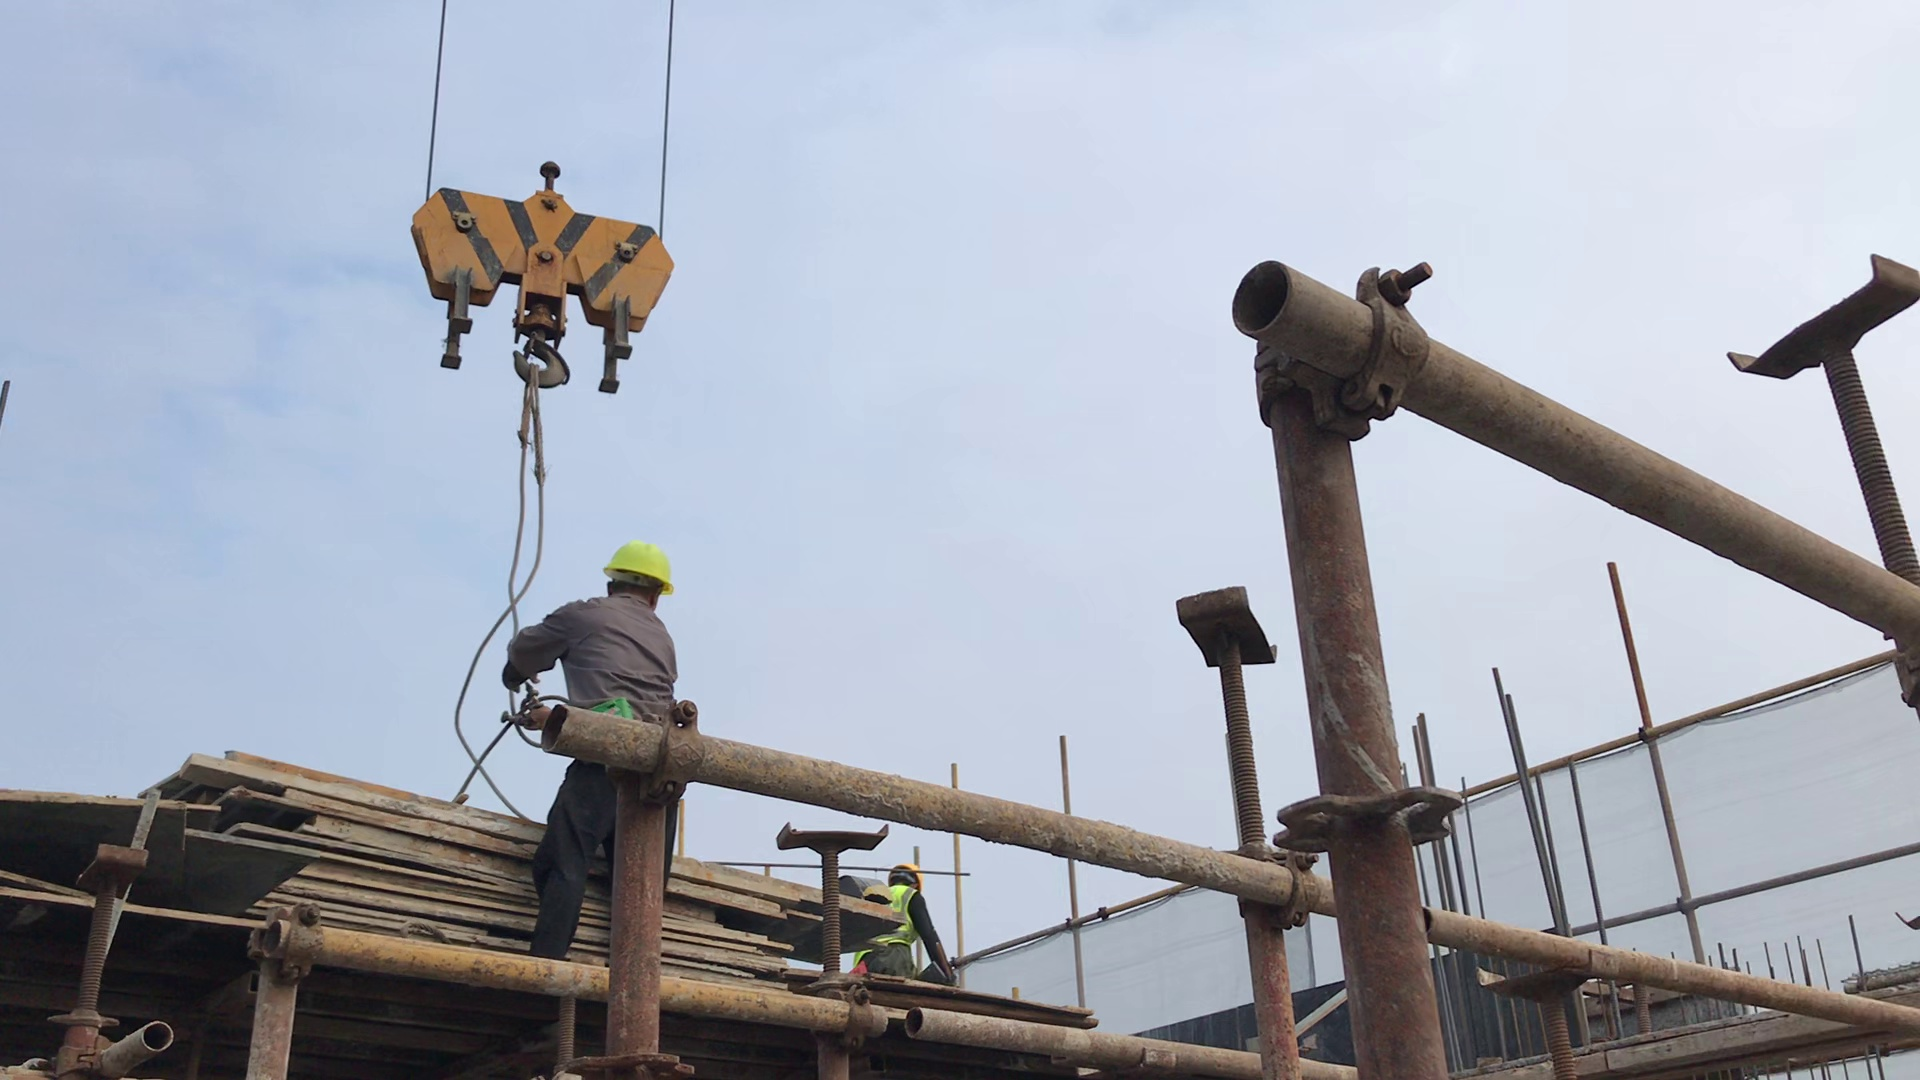board: (169, 746, 901, 988)
helmet: (600, 542, 673, 592)
hook: (409, 162, 674, 395)
person: (500, 539, 686, 966), (855, 860, 955, 989)
